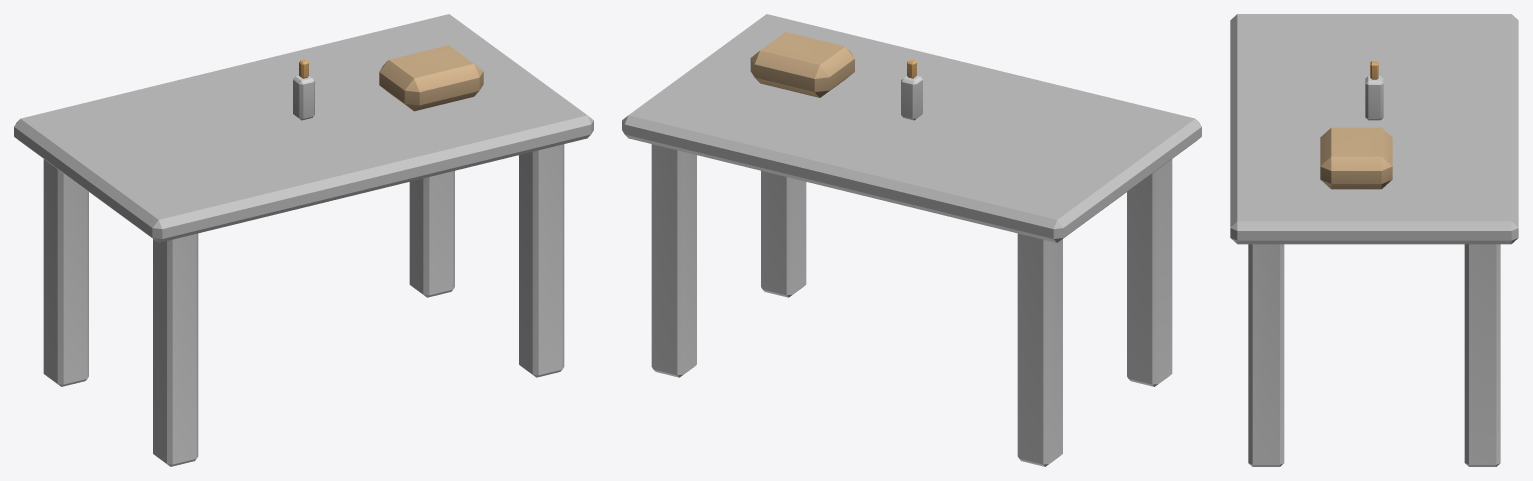
File: home_table.glb
The picture shows the model from 3 angles, left to right: view 1: azimuth 30°, elevation 25°; view 2: azimuth 150°, elevation 25°; view 3: azimuth 270°, elevation 25°; orthographic projection.
Visible parts, largest first — view 1: bread; view 2: bread; view 3: bread.
Boxes of the visible parts, x1,y1,x2,y2 form: bread: (14,14,593,466); bread: (622,14,1201,466); bread: (1230,14,1518,466).
Bounding box in the file's own units: 1.4 × 0.95 × 0.8.
